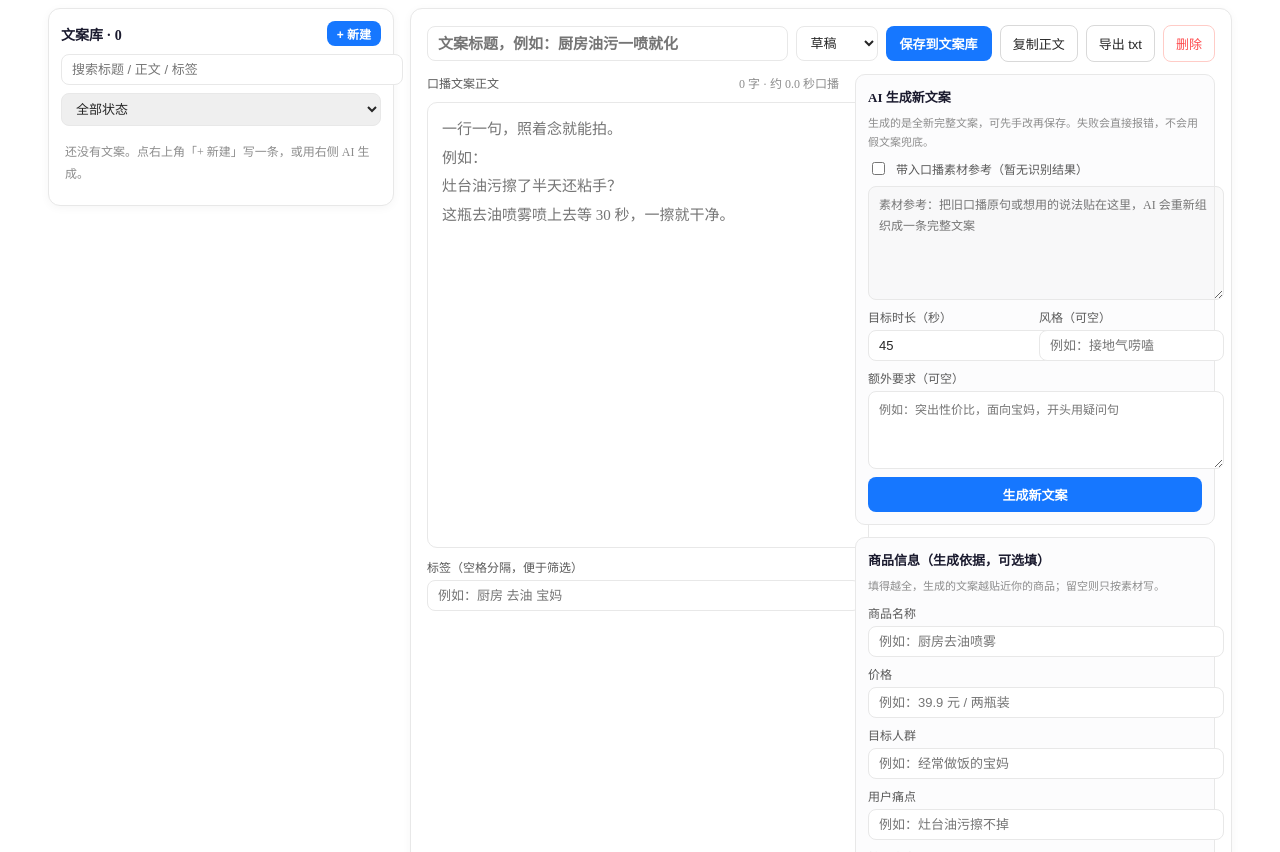
Test: CopywritingPanel › refuses to save an empty script instead of writing a blank record
Click the button "保存到文案库".
click(939, 44)  # box [886,26,992,61]
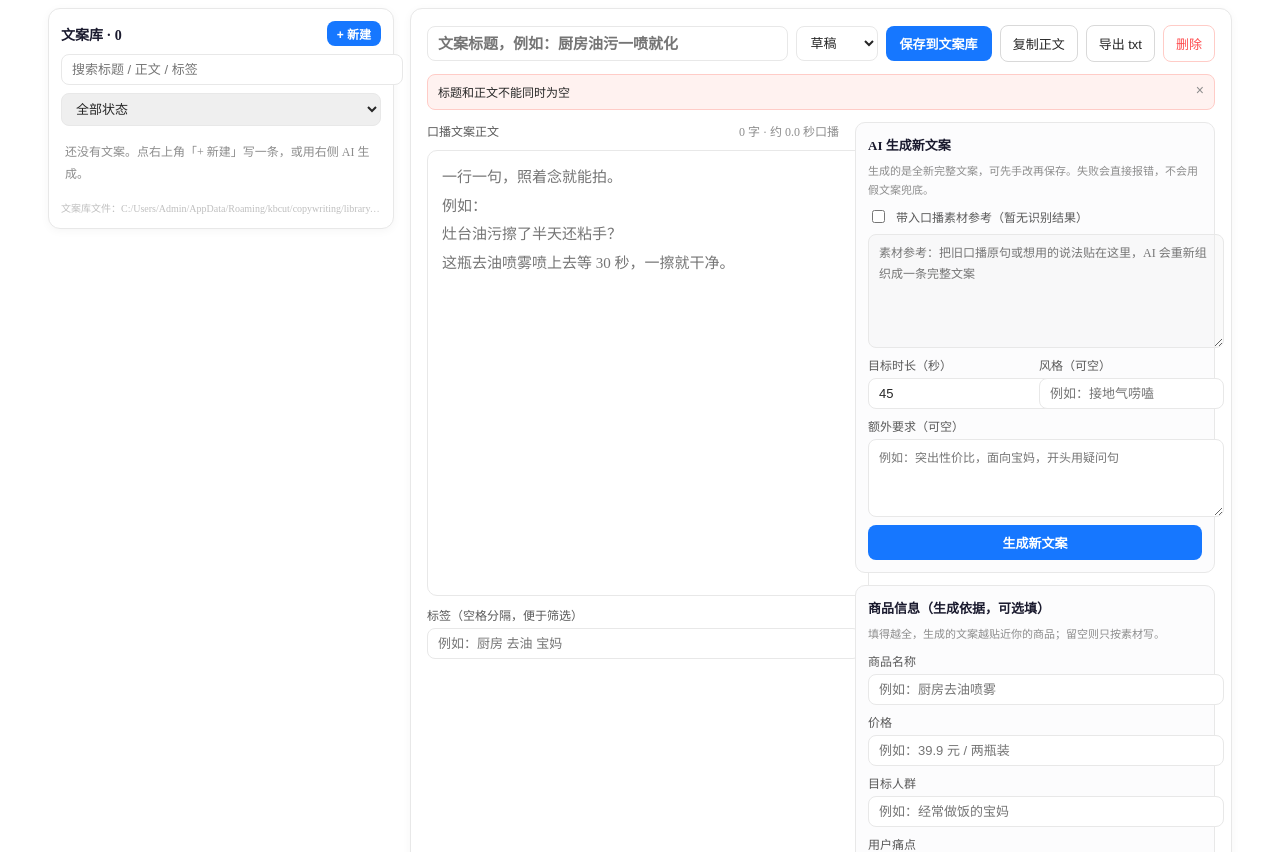
Now the text "标题和正文不能同时为空" is shown, box [438,86,570,100]
